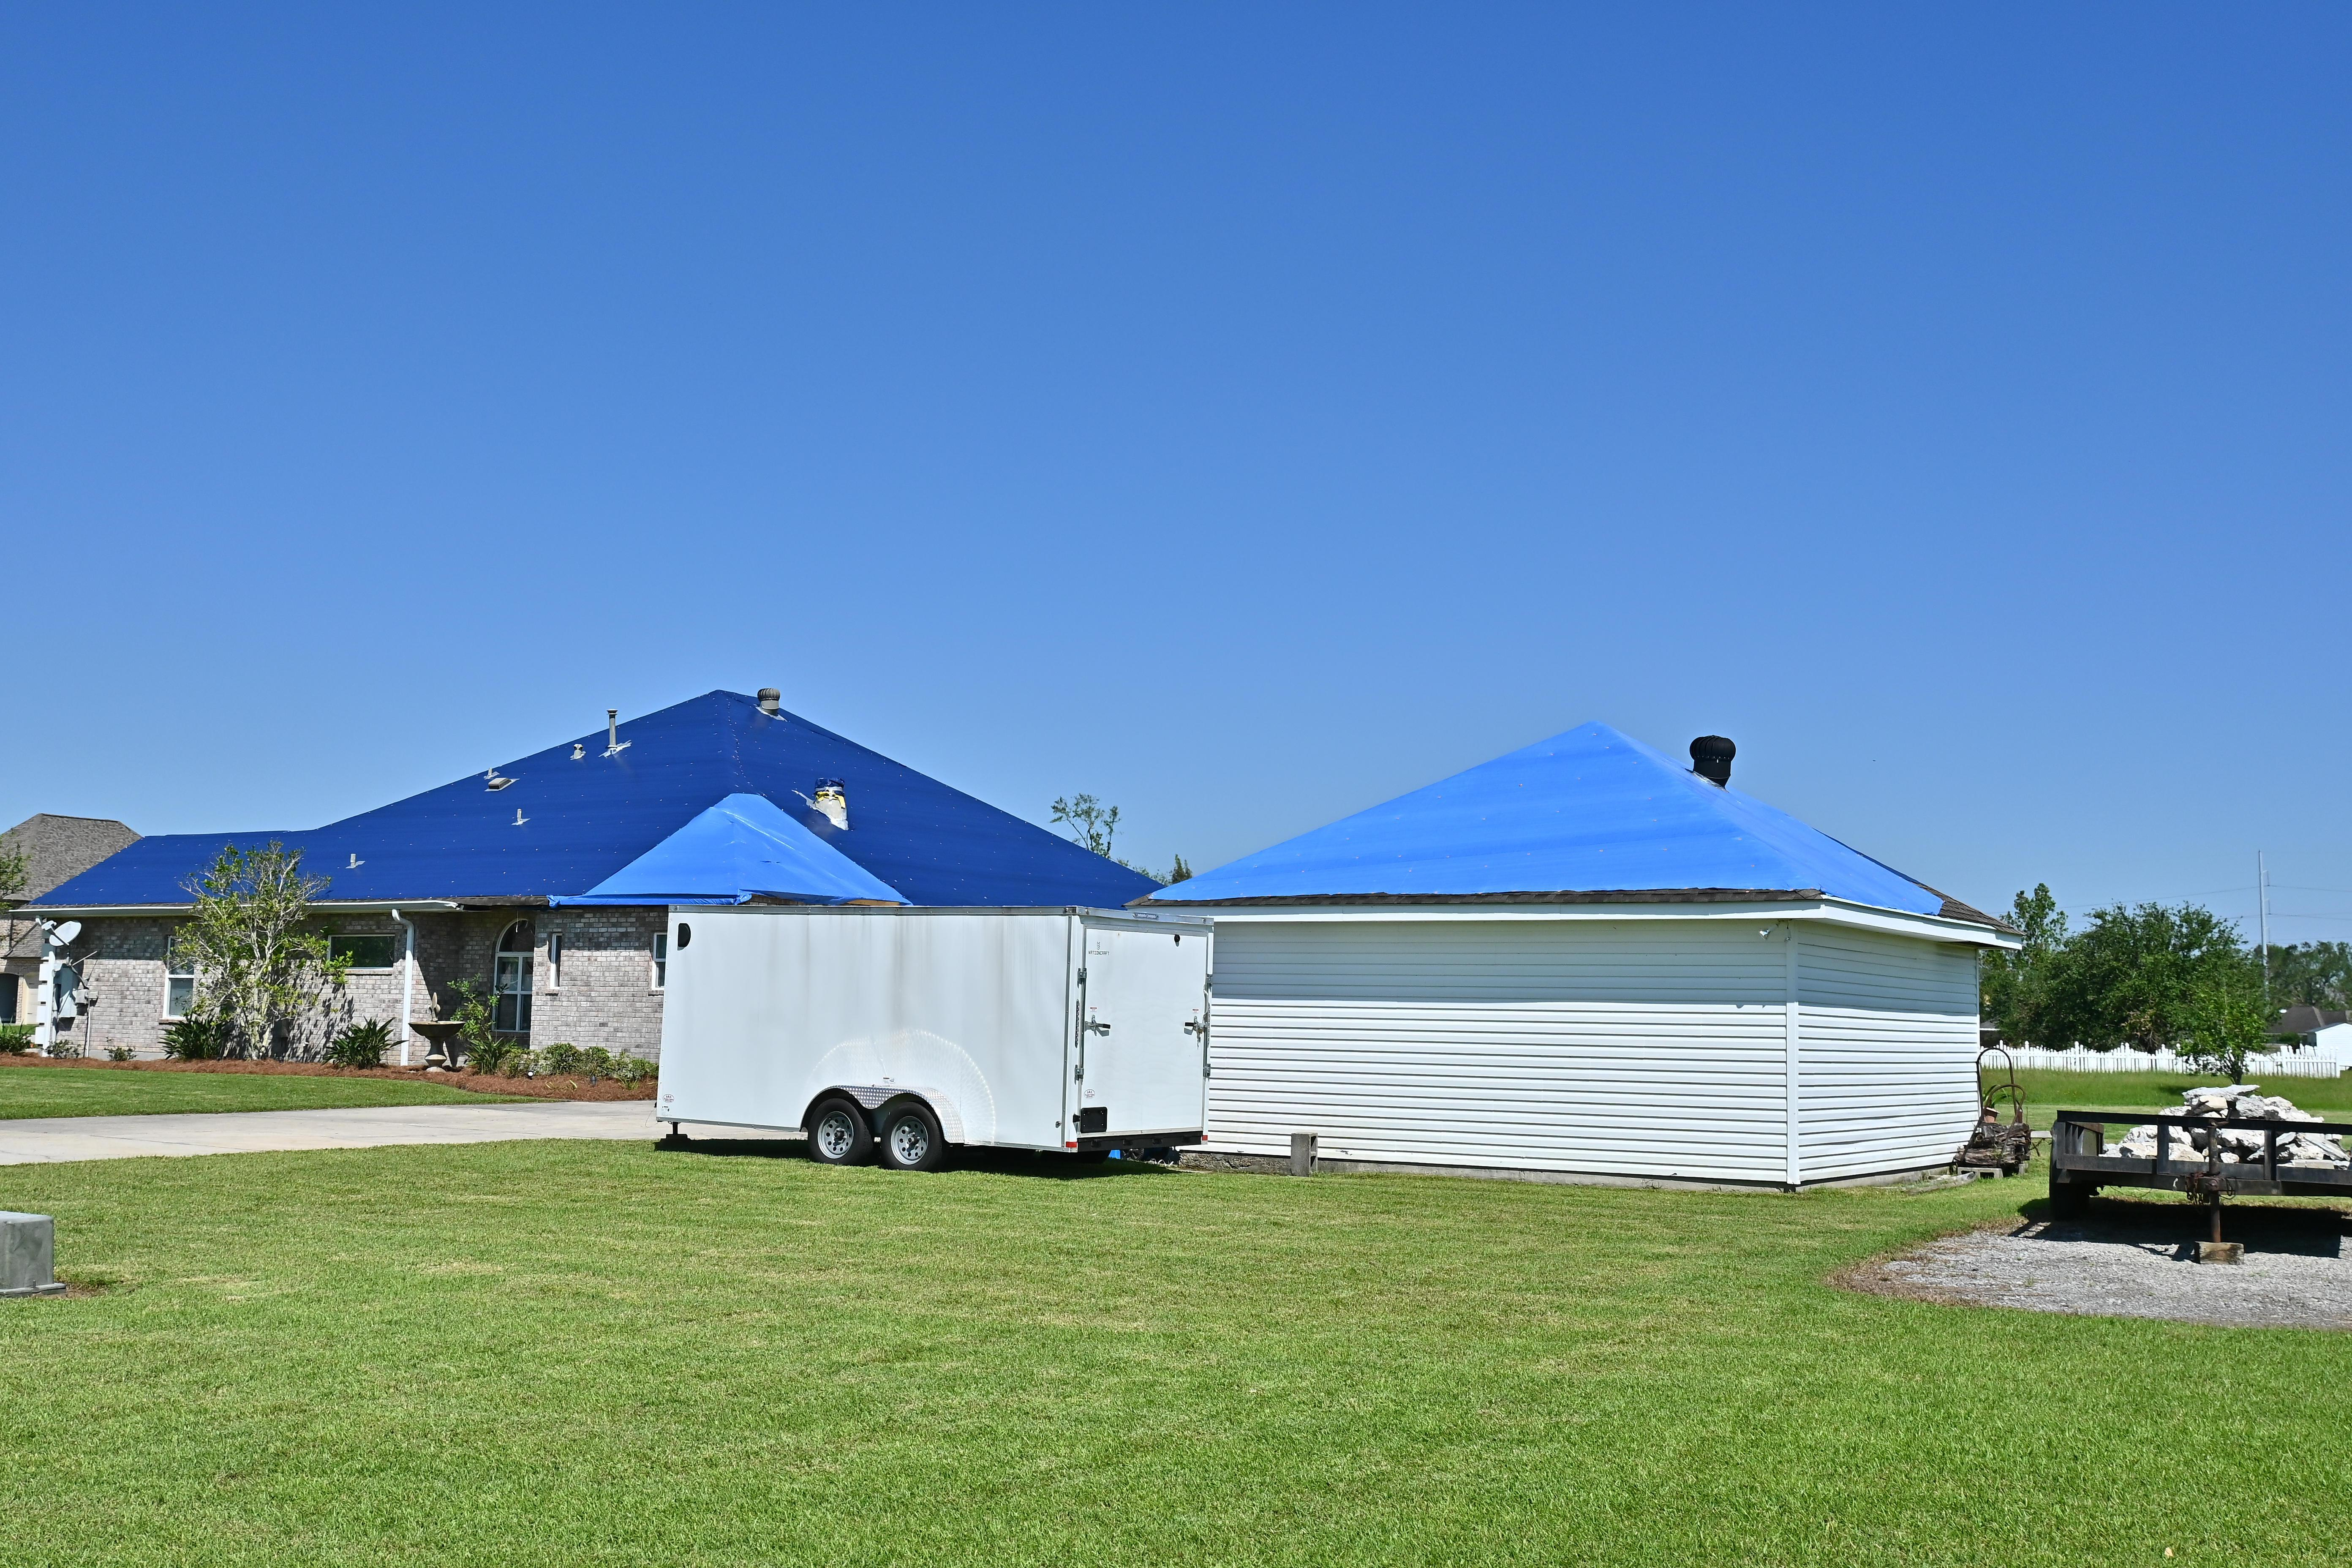minor: (86, 625, 2018, 1185)
